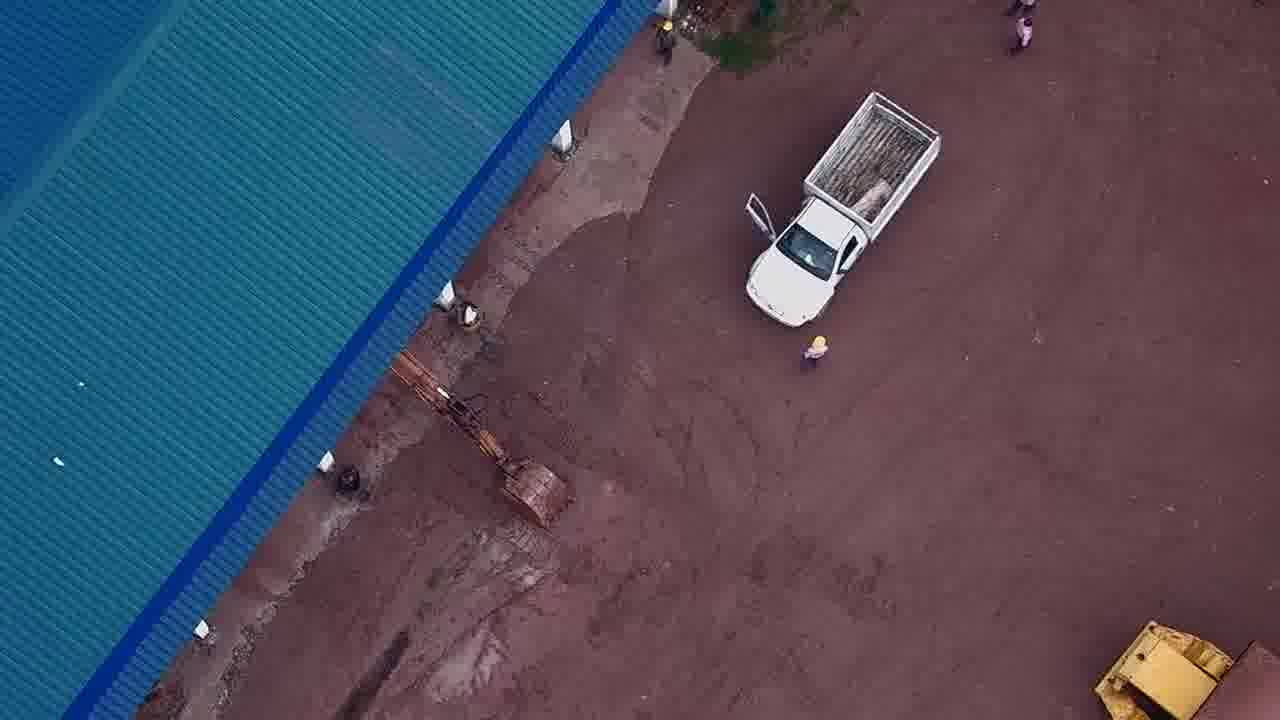light_motor_vehicle: (744, 88, 943, 326)
person: (802, 333, 831, 377), (1011, 14, 1037, 60), (655, 16, 677, 68)
